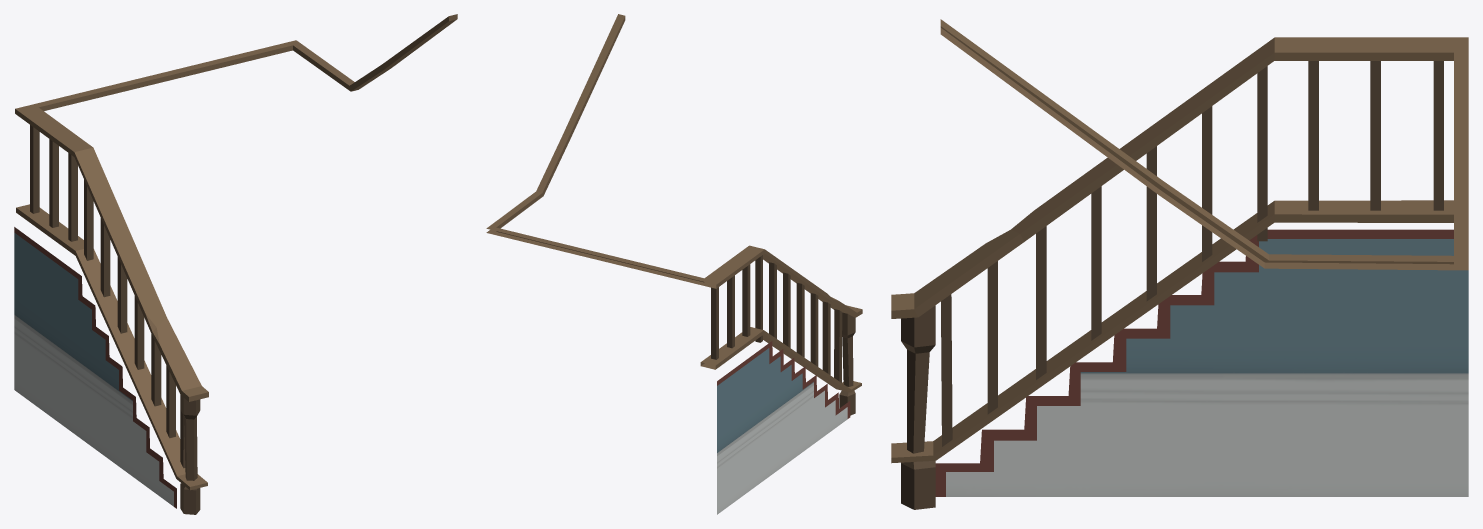
Rendered from SM_Bld_House_Interior_StairsRail_02.fbx.
3 renders of one model, left to right at view 1: azimuth 30°, elevation 25°; view 2: azimuth 150°, elevation 25°; view 3: azimuth 270°, elevation 25°, orthographic. The views are drawn at different scales.
Parts seen in each view (by area): view 1: SM_Bld_House_Interior_StairsRail_02; view 2: SM_Bld_House_Interior_StairsRail_02; view 3: SM_Bld_House_Interior_StairsRail_02.
Part boxes in pixels (x1,y1,x2,y2): SM_Bld_House_Interior_StairsRail_02: [14, 14, 457, 514]; SM_Bld_House_Interior_StairsRail_02: [486, 14, 862, 514]; SM_Bld_House_Interior_StairsRail_02: [891, 19, 1468, 509].
Size of the model in its own units: 252 by 360 by 271.
